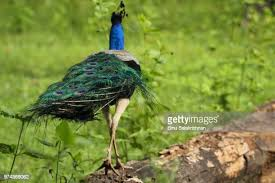Walking: (23, 2, 171, 177)
